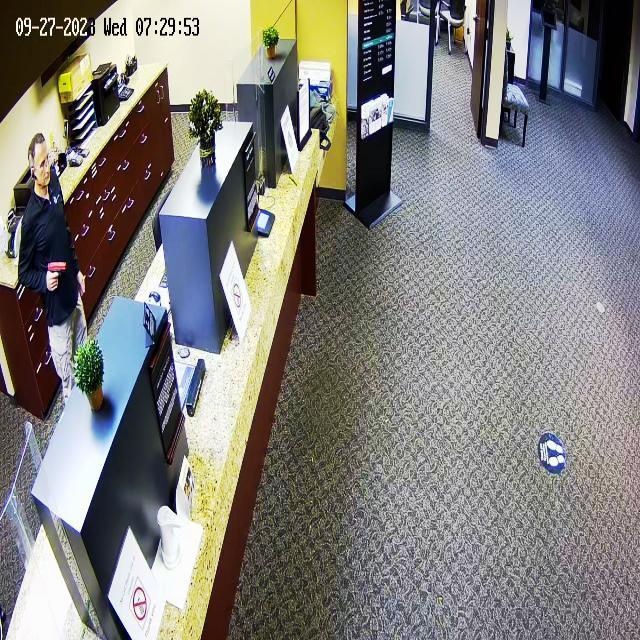Gun: (38, 255, 72, 290)
